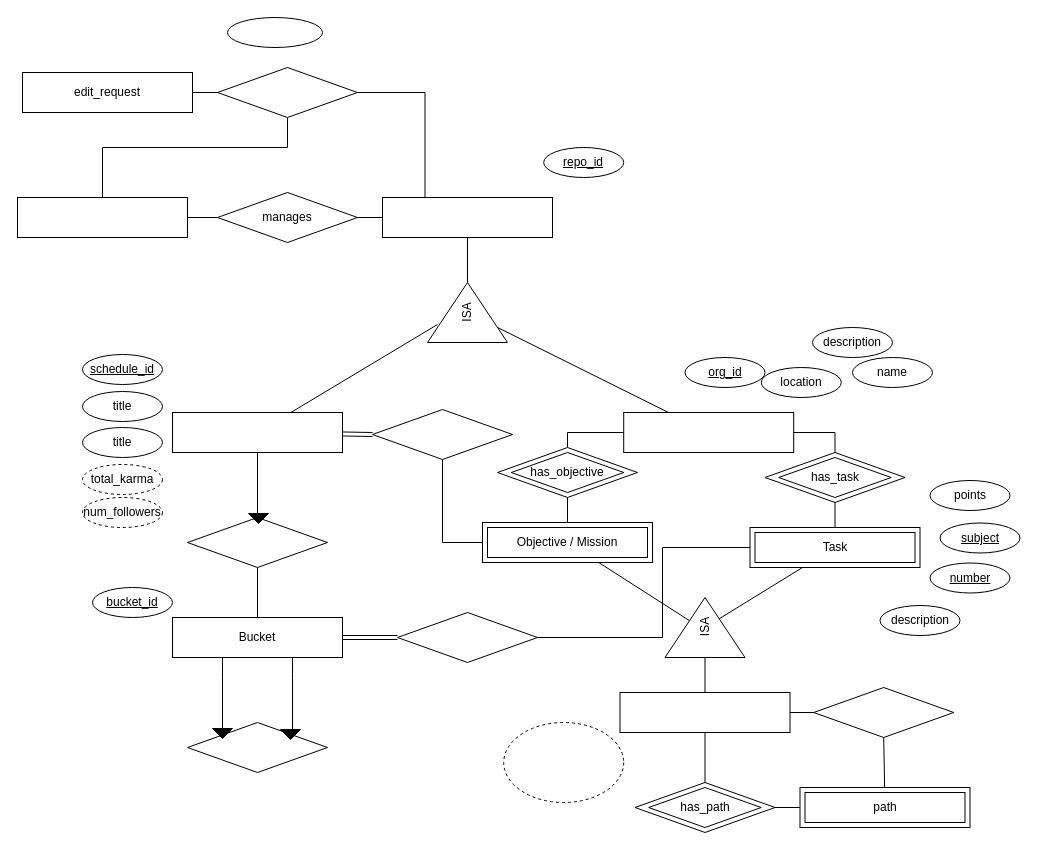
This 1038x850 diagram has some shape labels left out. Each missing label, with the centre of its shape:
"add_or_update" belongs at point 274,32.
"built_to_complete" belongs at point 442,434.
"composed_of" belongs at point 883,712.
"contains" belongs at point 467,637.
"executable" belongs at point 704,712.
"has_bucket" belongs at point 257,542.
"Must garuntee no cycles in database" belongs at point 563,762.
"next_bucket" belongs at point 257,747.
"Organization" belongs at point 708,432.
"Repository" belongs at point 467,217.
"Schedule" belongs at point 257,432.
"user" belongs at point 102,217.
"vote_to_edit" belongs at point 287,92.
